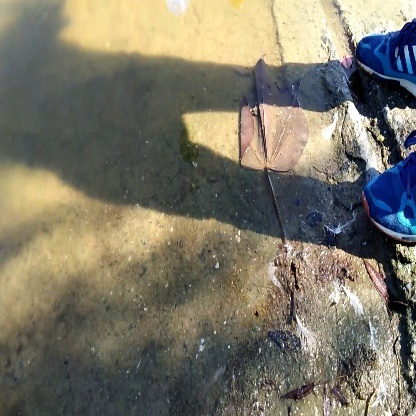leaf: (230, 56, 316, 249)
